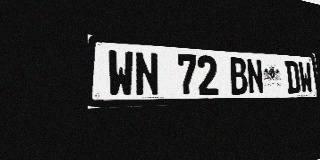2: (197, 55, 218, 95)
7: (176, 54, 199, 96)
B: (229, 57, 248, 95)
D: (284, 60, 301, 94)
N: (134, 51, 160, 97), (246, 58, 264, 94)
W: (107, 49, 134, 97), (298, 61, 314, 93)
